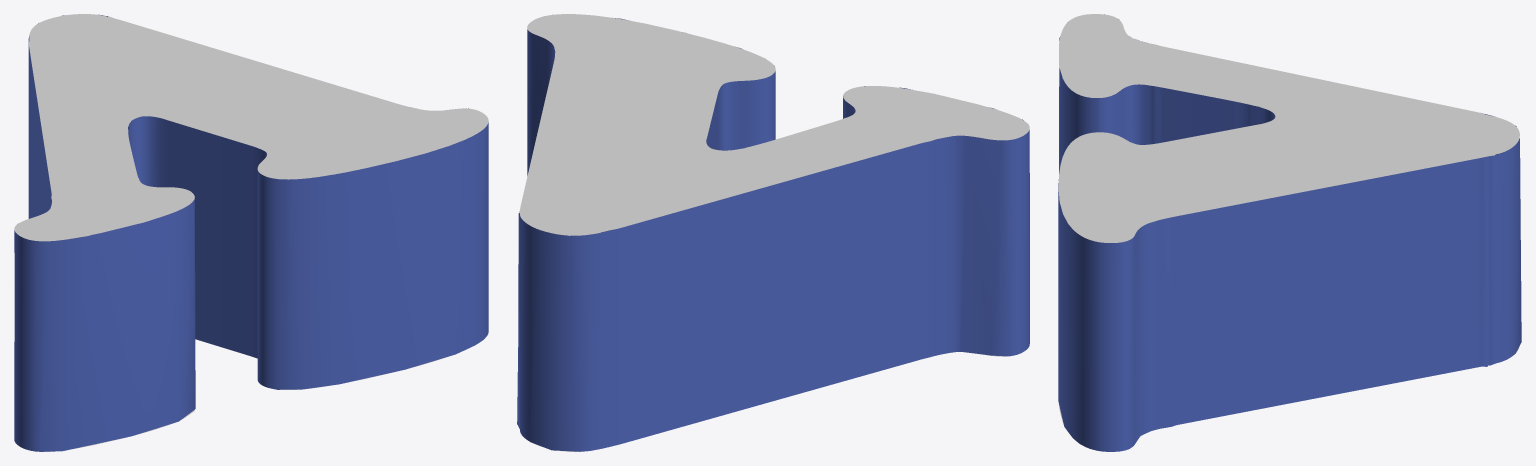
The picture shows the model from 3 angles, left to right: view 1: azimuth 30°, elevation 25°; view 2: azimuth 150°, elevation 25°; view 3: azimuth 270°, elevation 25°; orthographic projection. The views are drawn at different scales.
Parts seen in each view (by area): view 1: V; view 2: V; view 3: V.
Boxes of the visible parts, x1,y1,x2,y2 form: V: [14, 14, 488, 451]; V: [517, 14, 1029, 451]; V: [1058, 14, 1521, 451].
Bounding box in the file's own units: 1.73 × 0.7361 × 1.48.
